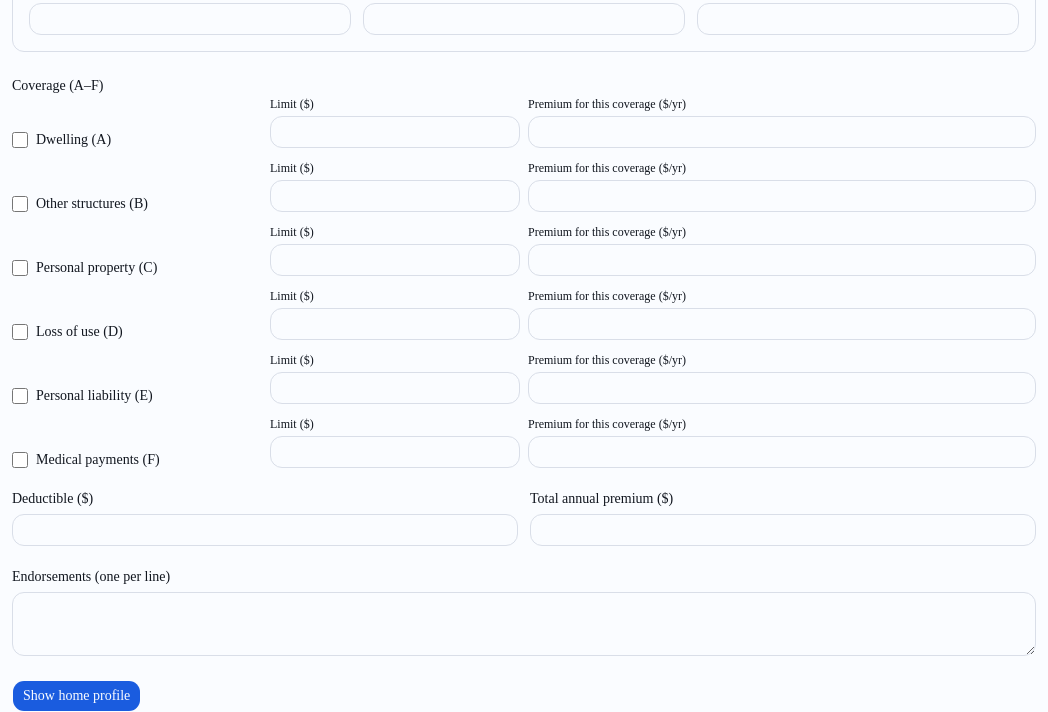
HomeProfile › shows "Not entered" (never "Not covered") for an excluded coverage (HOM-1/2)
(page scrolled)
Click the button "Show home profile".
click(77, 696)  # box top-left (12, 680), bottom-right (141, 711)
(page scrolled)
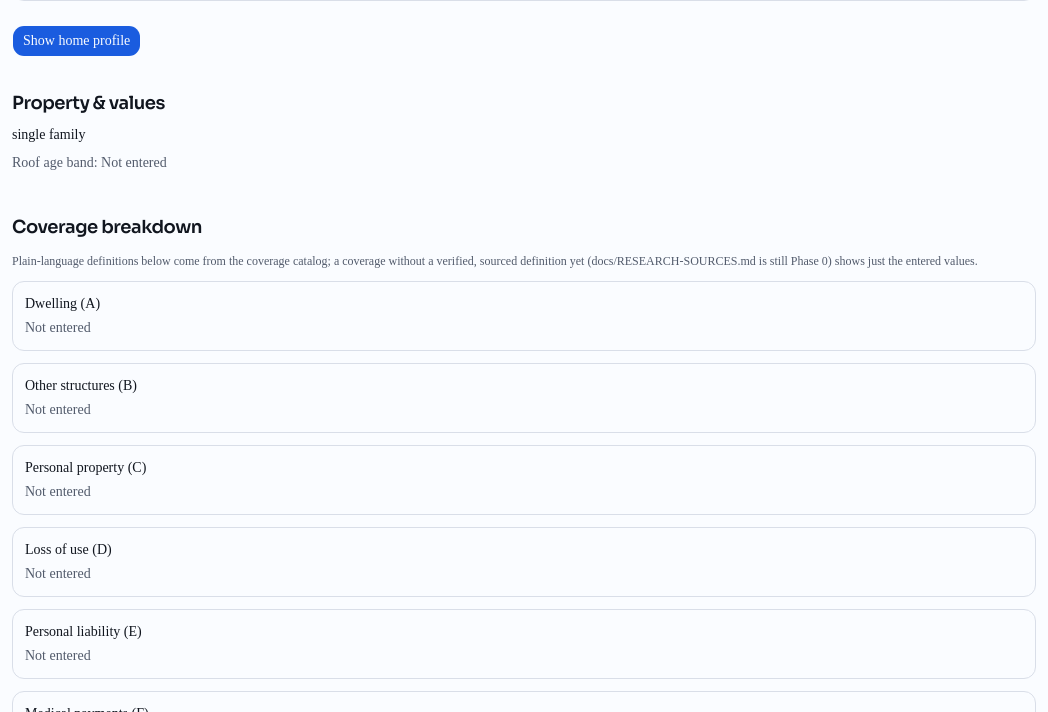
Expected: the heading "Coverage breakdown" is shown, top-left (12, 216), bottom-right (202, 238)
Expected: the 1st text "Not entered" is shown, top-left (25, 320), bottom-right (91, 335)
